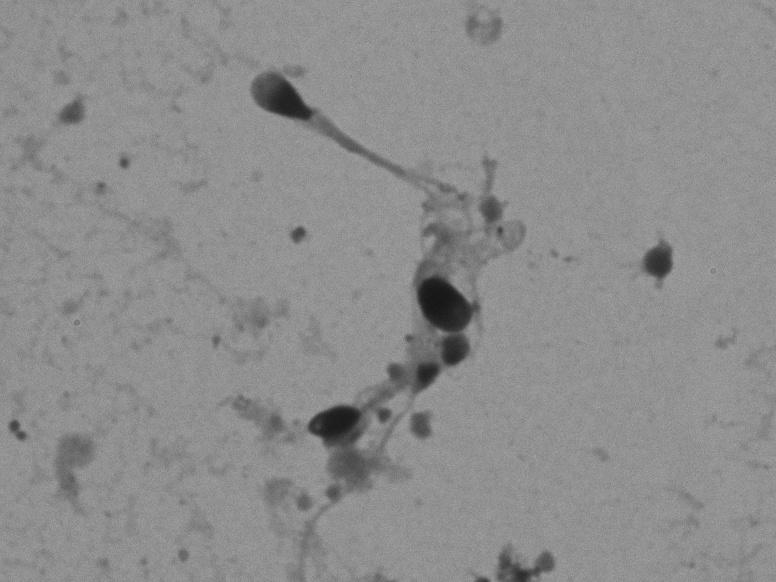Abnormal: (211, 354, 485, 565), (207, 26, 484, 228), (341, 206, 579, 342)
